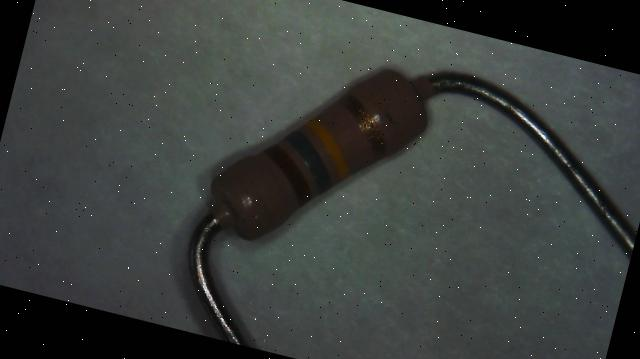brown: (252, 142, 322, 209)
gold: (326, 92, 398, 162)
grey: (273, 127, 342, 195)
resistor: (163, 29, 467, 278)
yellow: (295, 117, 361, 181)
